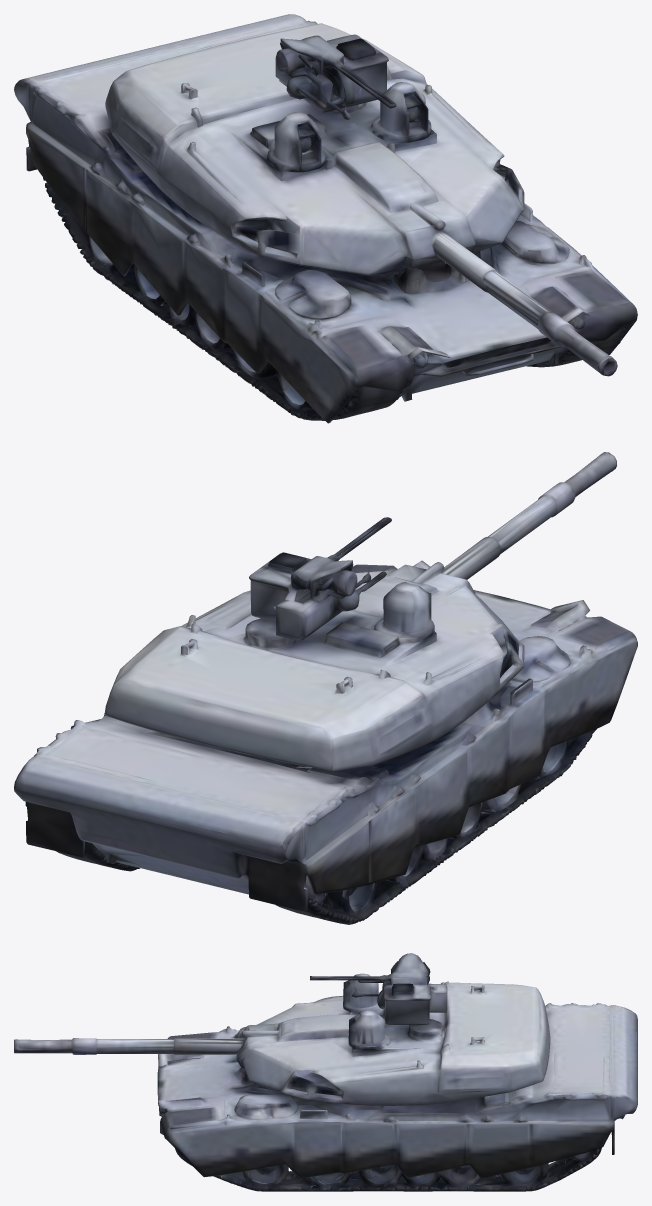
File: abrx_opt.glb
3 renders of one model, top to bottom at view 1: azimuth 30°, elevation 25°; view 2: azimuth 150°, elevation 25°; view 3: azimuth 270°, elevation 25°, orthographic. The views are drawn at different scales.
Parts seen in each view (by area): view 1: node_0; view 2: node_0; view 3: node_0.
Boxes of the visible parts, x1,y1,x2,y2 form: node_0: (14, 14, 637, 423); node_0: (14, 452, 637, 924); node_0: (14, 953, 637, 1191).
Size of the model in its own units: 0.4102 by 0.3723 by 1.14.
1 material, 1 textured.
